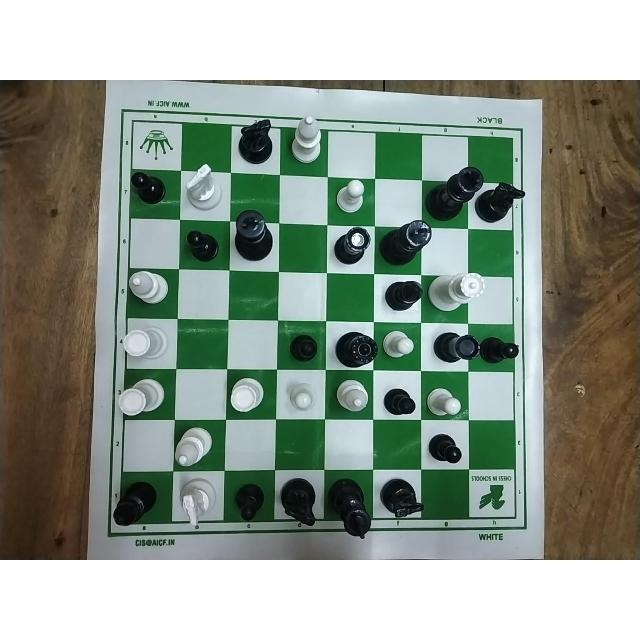black-bishop: (107, 481, 163, 531), (382, 276, 425, 317)
black-king: (423, 164, 483, 221), (325, 475, 371, 542), (379, 219, 431, 265), (232, 210, 274, 262)
black-knight: (277, 475, 318, 529), (474, 179, 525, 221), (379, 478, 427, 520), (234, 118, 276, 166)
black-pawn: (129, 169, 167, 206), (231, 481, 267, 520), (426, 432, 465, 467), (182, 226, 217, 263), (479, 333, 519, 365), (380, 385, 416, 417), (287, 333, 321, 361)
black-queen: (333, 328, 379, 368)
black-rook: (331, 224, 371, 267), (433, 330, 479, 366)
white-bishop: (286, 114, 325, 168), (125, 268, 173, 307), (175, 426, 215, 470), (334, 377, 370, 411)
white-knight: (175, 478, 219, 530), (183, 163, 225, 208)
white-pawn: (424, 386, 464, 419), (332, 179, 368, 215), (382, 328, 416, 360), (287, 381, 319, 413)
white-queen: (426, 271, 484, 313)
white-rook: (117, 323, 169, 361), (116, 374, 164, 415), (228, 374, 267, 414)
